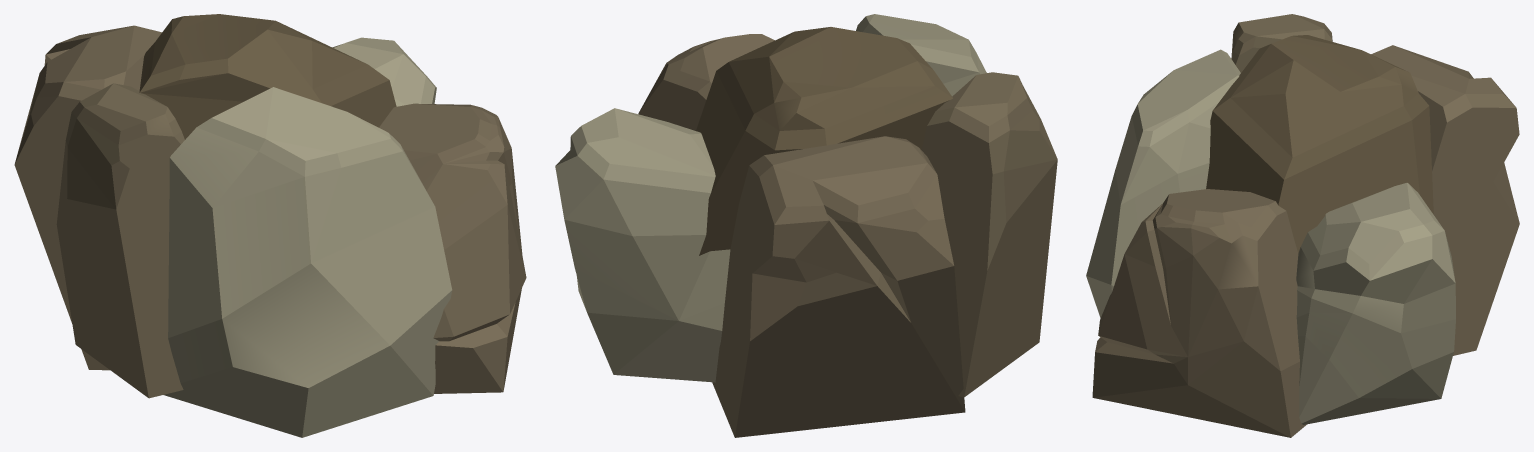
Rendered from Rock_05.fbx.
3 views of the same model, side by side, from view 1: azimuth 30°, elevation 25°; view 2: azimuth 150°, elevation 25°; view 3: azimuth 270°, elevation 25° (orthographic). The views are drawn at different scales.
Visible parts, largest first — view 1: Rock_05; view 2: Rock_05; view 3: Rock_05.
Part boxes in pixels (x1=…): Rock_05: x1=14, y1=14, x2=526, y2=437; Rock_05: x1=555, y1=14, x2=1057, y2=437; Rock_05: x1=1086, y1=14, x2=1519, y2=437.
Size of the model in its own units: 167 by 128 by 171.
